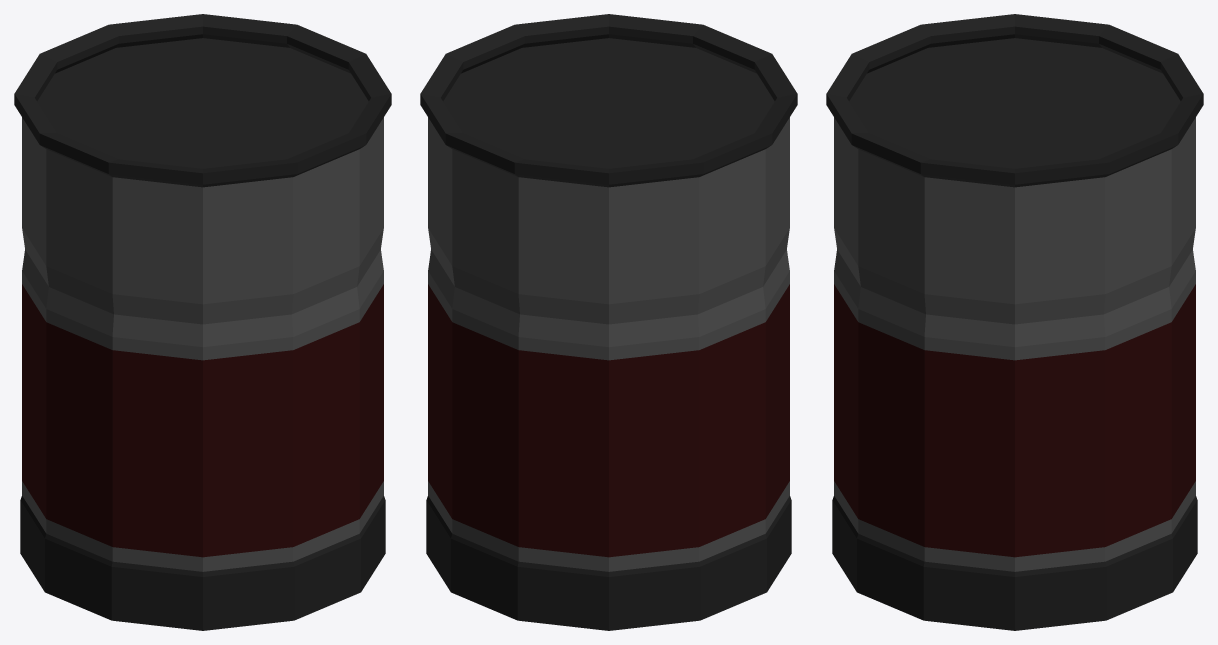
Rendered from energy.glb.
3 views of the same model, side by side, from view 1: azimuth 30°, elevation 25°; view 2: azimuth 150°, elevation 25°; view 3: azimuth 270°, elevation 25° (orthographic).
Parts seen in each view (by area): view 1: item_energy; view 2: item_energy; view 3: item_energy.
Boxes of the visible parts, <box> form: item_energy: <box>14,14,391,630</box>; item_energy: <box>420,14,797,630</box>; item_energy: <box>826,14,1203,630</box>.
Size of the model in its own units: 0.0928 by 0.125 by 0.0928.
